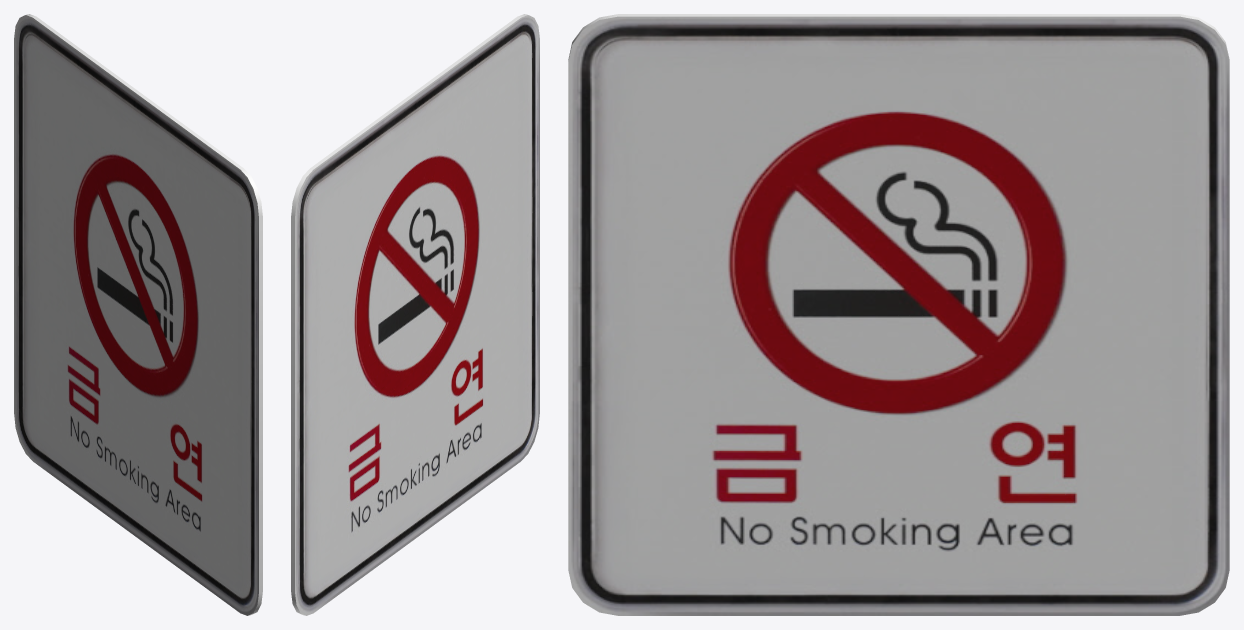
File: FBX_NoSmoking.fbx
3 renders of one model, left to right at view 1: azimuth 30°, elevation 25°; view 2: azimuth 150°, elevation 25°; view 3: azimuth 270°, elevation 25°, orthographic. The views are drawn at different scales.
Parts seen in each view (by area): view 1: SM_NoSmoking; view 2: SM_NoSmoking; view 3: SM_NoSmoking.
Part boxes in pixels (<box>): SM_NoSmoking: <box>14,14,262,615</box>; SM_NoSmoking: <box>291,14,539,615</box>; SM_NoSmoking: <box>568,14,1229,615</box>.
Bounding box in the file's own units: 0.00175 × 0.19 × 0.1899.
